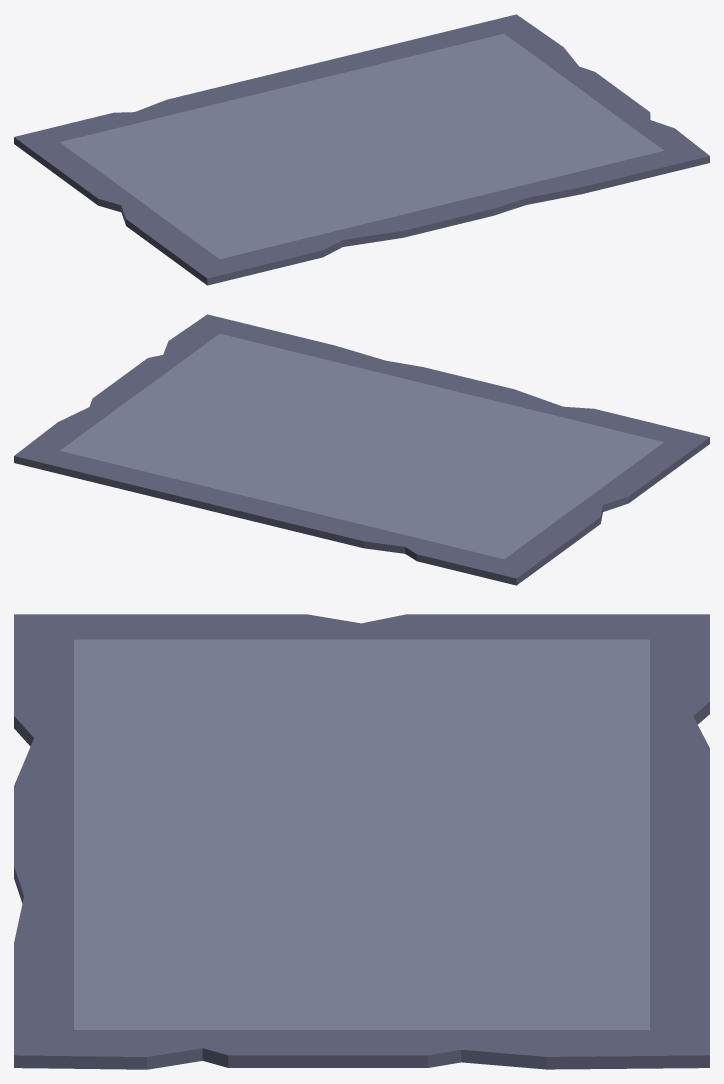
File: Carpet_02.fbx
3 views of the same model, one above another, from view 1: azimuth 30°, elevation 25°; view 2: azimuth 150°, elevation 25°; view 3: azimuth 270°, elevation 25° (orthographic). The views are drawn at different scales.
Visible parts, largest first — view 1: Carpet_02; view 2: Carpet_02; view 3: Carpet_02.
Boxes of the visible parts, x1=… form: Carpet_02: x1=14, y1=14, x2=709, y2=285; Carpet_02: x1=14, y1=314, x2=709, y2=585; Carpet_02: x1=14, y1=614, x2=709, y2=1069.
Size of the model in its own units: 151 by 2 by 100.
